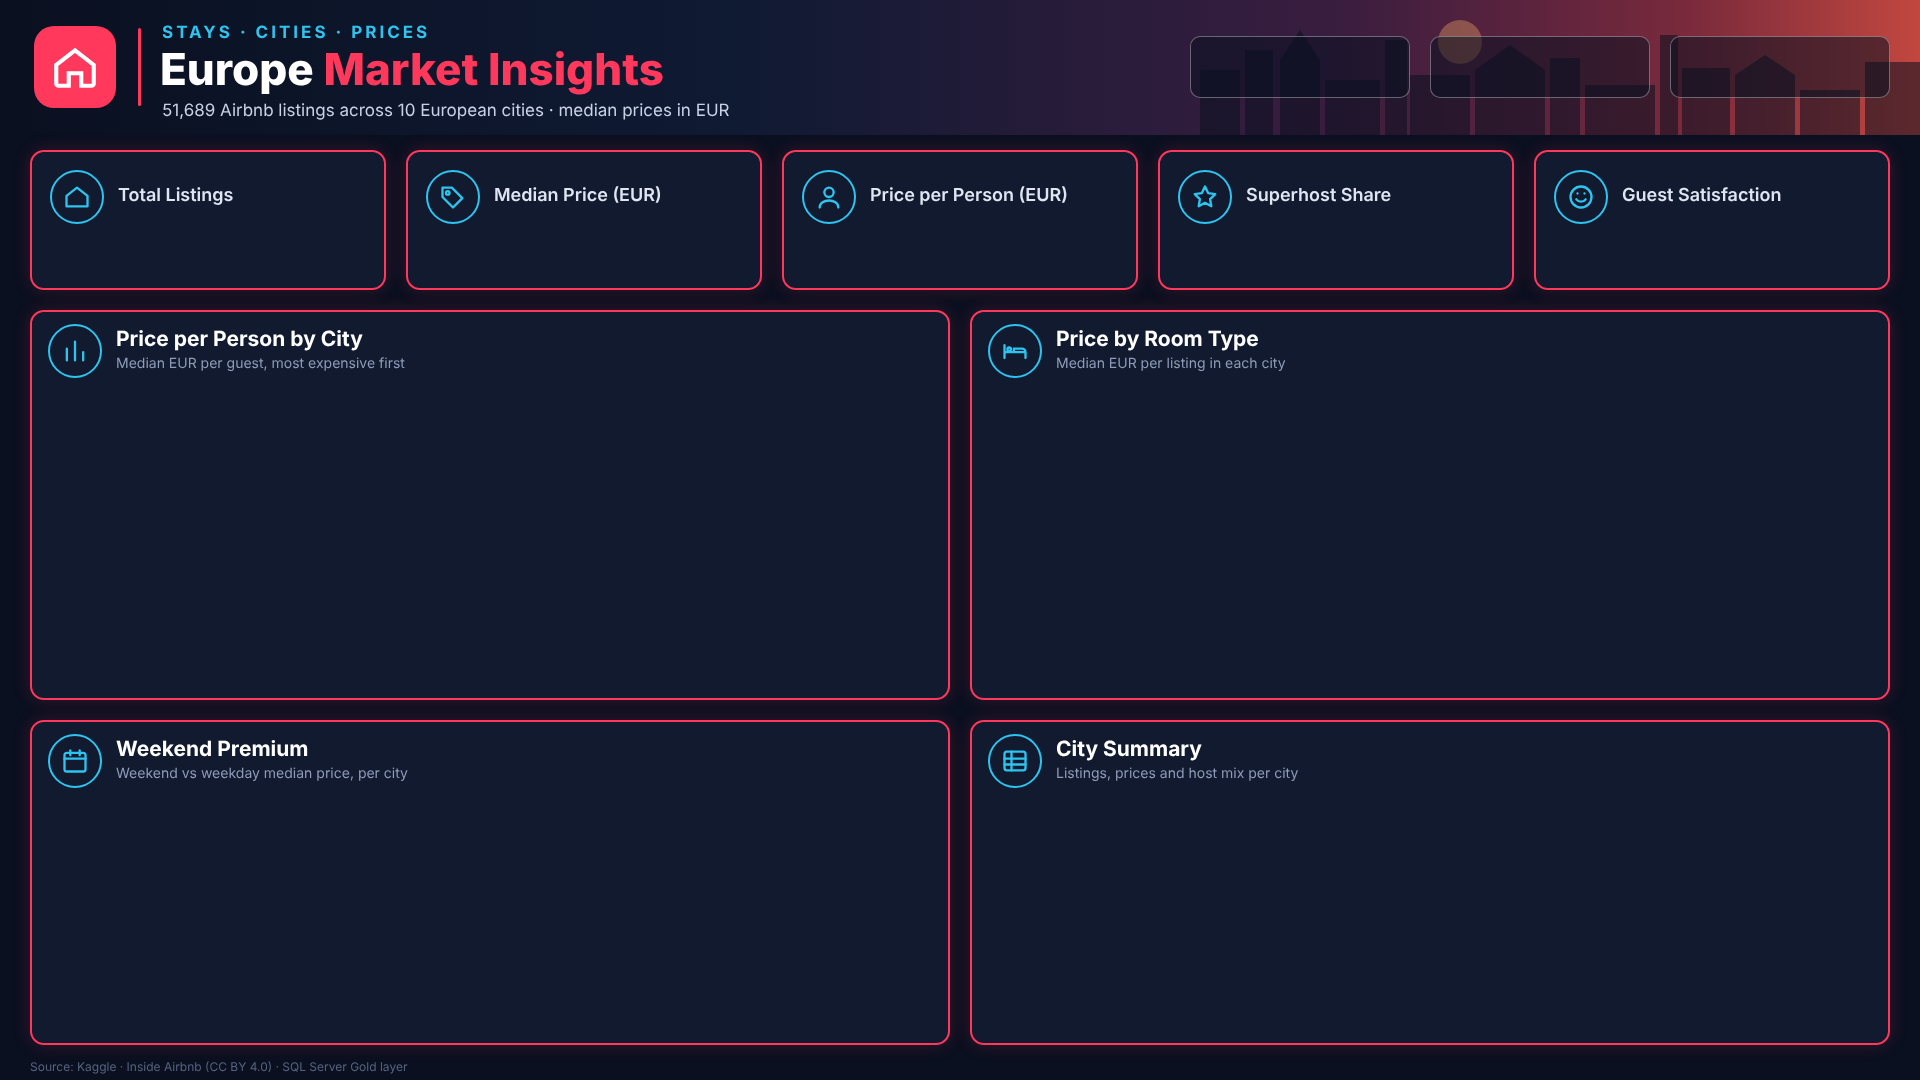

The dashboard page shown, as its layout file describes it:
{"tool":"powerbi","page":{"name":"Page 1","canvas":[1920,1080],"ordinal":0},"visuals":[{"type":"cardVisual","fields":{"Data":["Listings.Total Listings","Listings.Median Price","Listings.Median Price per Person","Listings.Superhost Share","Listings.Avg Guest Satisfaction"]},"box":[30.1,223.7,1863.5,75.1],"z":0},{"type":"clusteredBarChart","fields":{"Category":["City.city_name"],"Y":["Listings.Median Price per Person"]},"box":[40,385,600,268],"z":1000},{"type":"clusteredColumnChart","fields":{"Category":["City.city_name"],"Series":["Room Type.room_type_name"],"Y":["Listings.Median Price"]},"box":[680,385,600,268],"z":2000},{"type":"clusteredBarChart","fields":{"Category":["City.city_name"],"Y":["Listings.Weekend Premium %"]},"box":[1320,385,560,268],"z":3000},{"type":"slicer","fields":{"Values":["City.city_name"]},"box":[1190,36,220,62],"z":4000},{"type":"lineChart","fields":{"Category":["Listings.Distance Band"],"Y":["Listings.Median Price Index"]},"box":[40,755,600,280],"z":5000},{"type":"clusteredColumnChart","fields":{"Category":["Host Type.host_type_name"],"Y":["Listings.Median Price Index"]},"box":[680,755,600,280],"z":6000},{"type":"lineChart","fields":{"Category":["Listings.person_capacity"],"Y":["Listings.Median Price per Person"]},"box":[1320,755,560,280],"z":7000},{"type":"slicer","fields":{"Values":["Room Type.room_type_name"]},"box":[1430,36,220,62],"z":8000},{"type":"slicer","fields":{"Values":["Day Type.day_type_name"]},"box":[1670,36,220,62],"z":9000}]}

Visuals, with their boxes in screenshot pixels (x1, y1, x2, y2), scaled from the page's 1920x1080 canvas onto the 1920x1080 screenshot:
cardVisual - Listings.Total Listings x Listings.Median Price: bbox=(30, 224, 1894, 299)
clusteredBarChart - City.city_name x Listings.Median Price per Person: bbox=(40, 385, 640, 653)
clusteredColumnChart - City.city_name x Room Type.room_type_name: bbox=(680, 385, 1280, 653)
clusteredBarChart - City.city_name x Listings.Weekend Premium %: bbox=(1320, 385, 1880, 653)
slicer - City.city_name: bbox=(1190, 36, 1410, 98)
lineChart - Listings.Distance Band x Listings.Median Price Index: bbox=(40, 755, 640, 1035)
clusteredColumnChart - Host Type.host_type_name x Listings.Median Price Index: bbox=(680, 755, 1280, 1035)
lineChart - Listings.person_capacity x Listings.Median Price per Person: bbox=(1320, 755, 1880, 1035)
slicer - Room Type.room_type_name: bbox=(1430, 36, 1650, 98)
slicer - Day Type.day_type_name: bbox=(1670, 36, 1890, 98)
